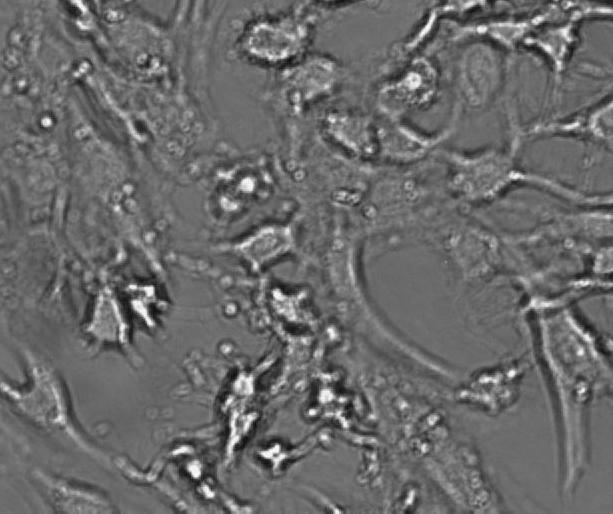Dead: (101, 271, 185, 342), (165, 437, 228, 508), (296, 376, 362, 435), (251, 437, 305, 477)
